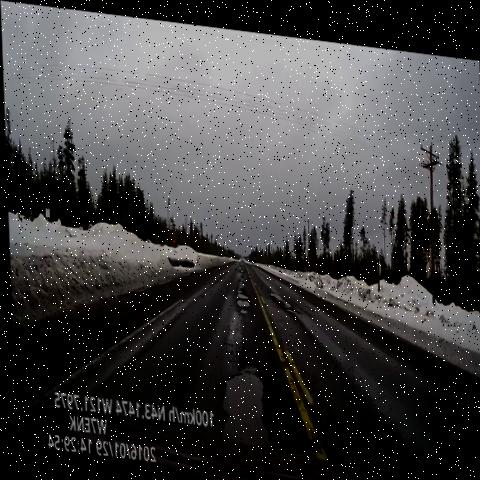pothole: (209, 344, 281, 450), (260, 272, 308, 321), (229, 248, 253, 318)
